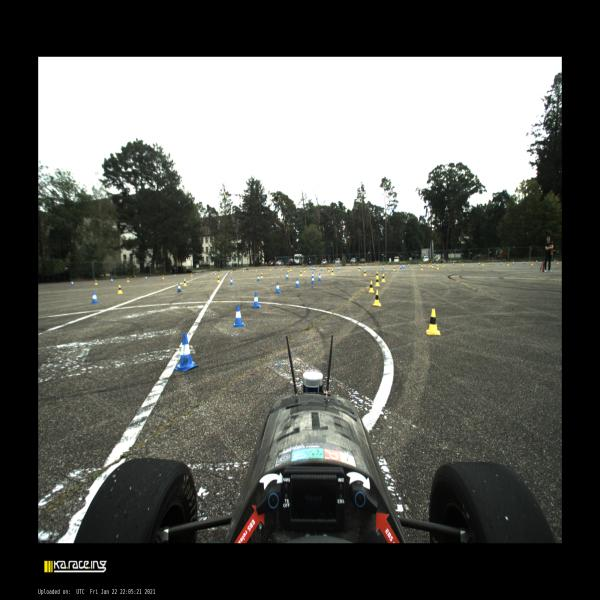blue_cone: (173, 333, 198, 372), (232, 304, 246, 327), (252, 292, 261, 308), (91, 292, 99, 303), (275, 282, 281, 293), (296, 278, 300, 288), (178, 283, 182, 292), (311, 276, 315, 284), (285, 273, 289, 280), (257, 274, 260, 282), (318, 274, 321, 281), (71, 280, 74, 286), (230, 278, 233, 284), (312, 272, 314, 278), (111, 278, 113, 282), (512, 260, 514, 264), (434, 262, 436, 266), (400, 265, 402, 269), (337, 266, 339, 270), (309, 266, 311, 270), (305, 266, 307, 270), (311, 266, 313, 270), (145, 276, 147, 279), (174, 274, 176, 277), (272, 267, 274, 270), (213, 271, 215, 274), (228, 270, 230, 273), (257, 268, 259, 271), (283, 267, 285, 270), (554, 260, 556, 263), (524, 260, 525, 264), (360, 266, 361, 270), (321, 266, 322, 270), (294, 267, 296, 269), (196, 272, 197, 275), (536, 260, 537, 263), (479, 262, 480, 265), (419, 263, 420, 266), (383, 266, 384, 269), (314, 267, 315, 270), (241, 269, 242, 272), (313, 267, 314, 270), (403, 265, 404, 268), (500, 262, 501, 264), (453, 263, 454, 265), (408, 264, 409, 266)
yellow_cone: (426, 309, 440, 336), (373, 290, 381, 306), (368, 281, 375, 293), (117, 285, 123, 294), (375, 277, 380, 286), (382, 274, 386, 282), (183, 279, 187, 286), (299, 270, 303, 276), (217, 276, 220, 283), (376, 271, 379, 278), (94, 280, 98, 285), (331, 269, 334, 275), (260, 273, 263, 278), (303, 268, 306, 272), (364, 270, 366, 276), (436, 264, 438, 270), (393, 265, 395, 271), (127, 277, 129, 282), (358, 266, 360, 271), (432, 263, 434, 268), (162, 275, 164, 279), (328, 267, 330, 271), (462, 262, 464, 266), (421, 266, 423, 270), (280, 267, 282, 271), (255, 268, 257, 272), (287, 268, 289, 272), (288, 268, 290, 272), (531, 262, 533, 265), (507, 262, 509, 265), (482, 262, 484, 265), (230, 270, 232, 273), (429, 263, 430, 267), (290, 267, 291, 271), (191, 273, 192, 276), (557, 261, 558, 264), (443, 263, 444, 266), (243, 269, 244, 272), (270, 268, 271, 270), (215, 272, 216, 274)
